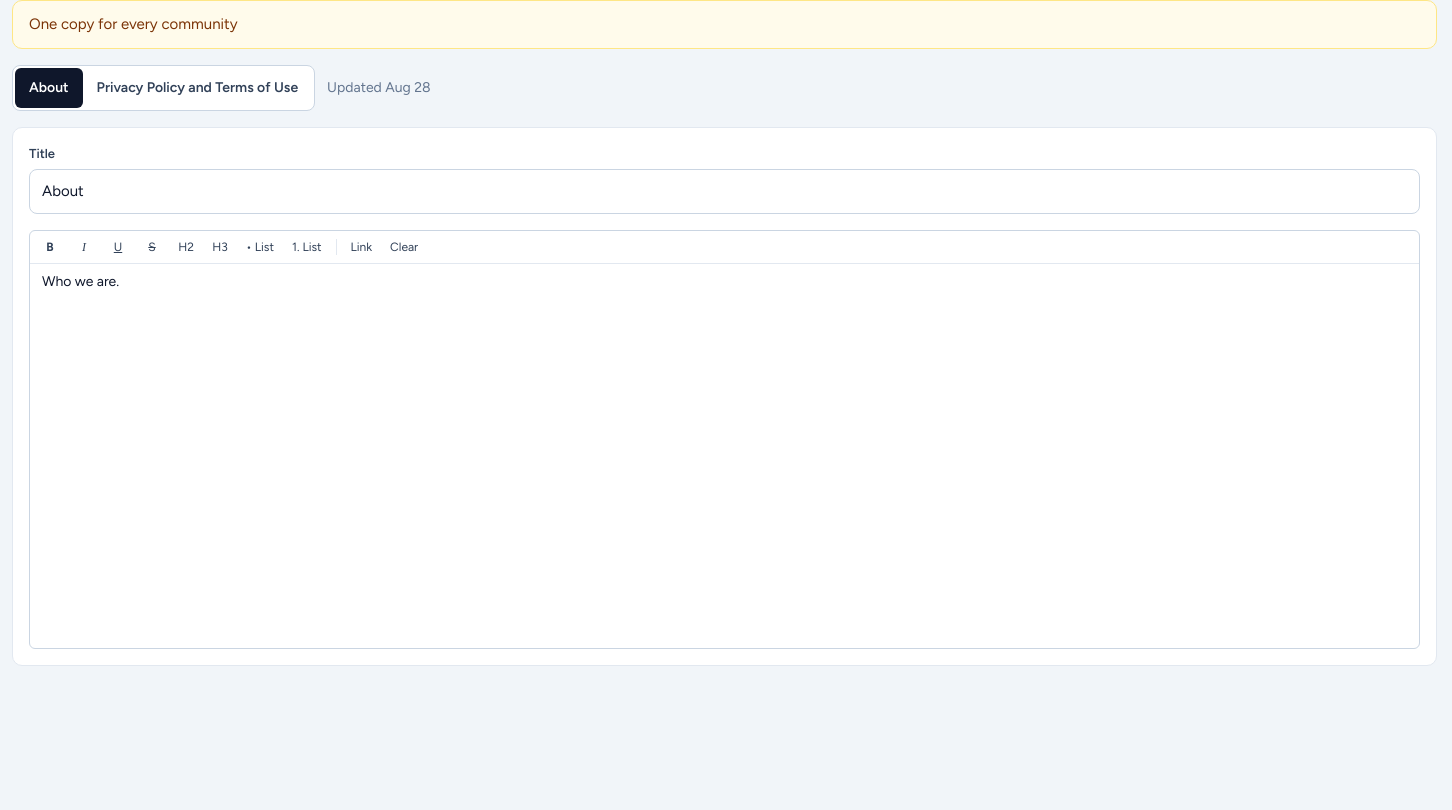
Test: About and Privacy › saves through one bar: a count, Undo, Save, then Saved.
This screenshot has width=1452, height=810.
Check: the element "Save" is not shown
Type " us" into the field labelled "Title" at (724, 191), box [29,169,1420,214]
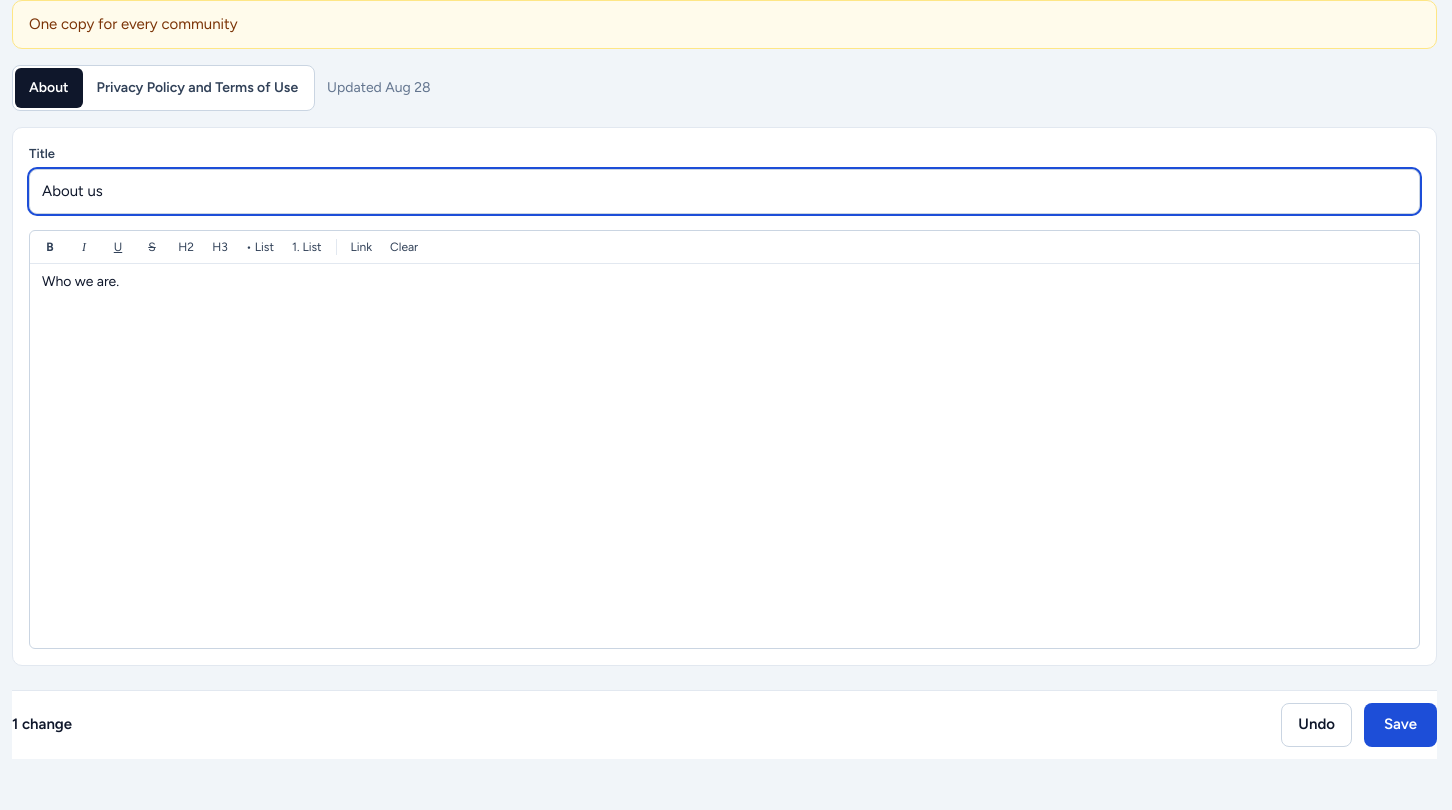
Check: the message reads "1 change", box [12,715,72,733]
Click the button "Undo" at (1317, 724), box [1281,702,1352,746]
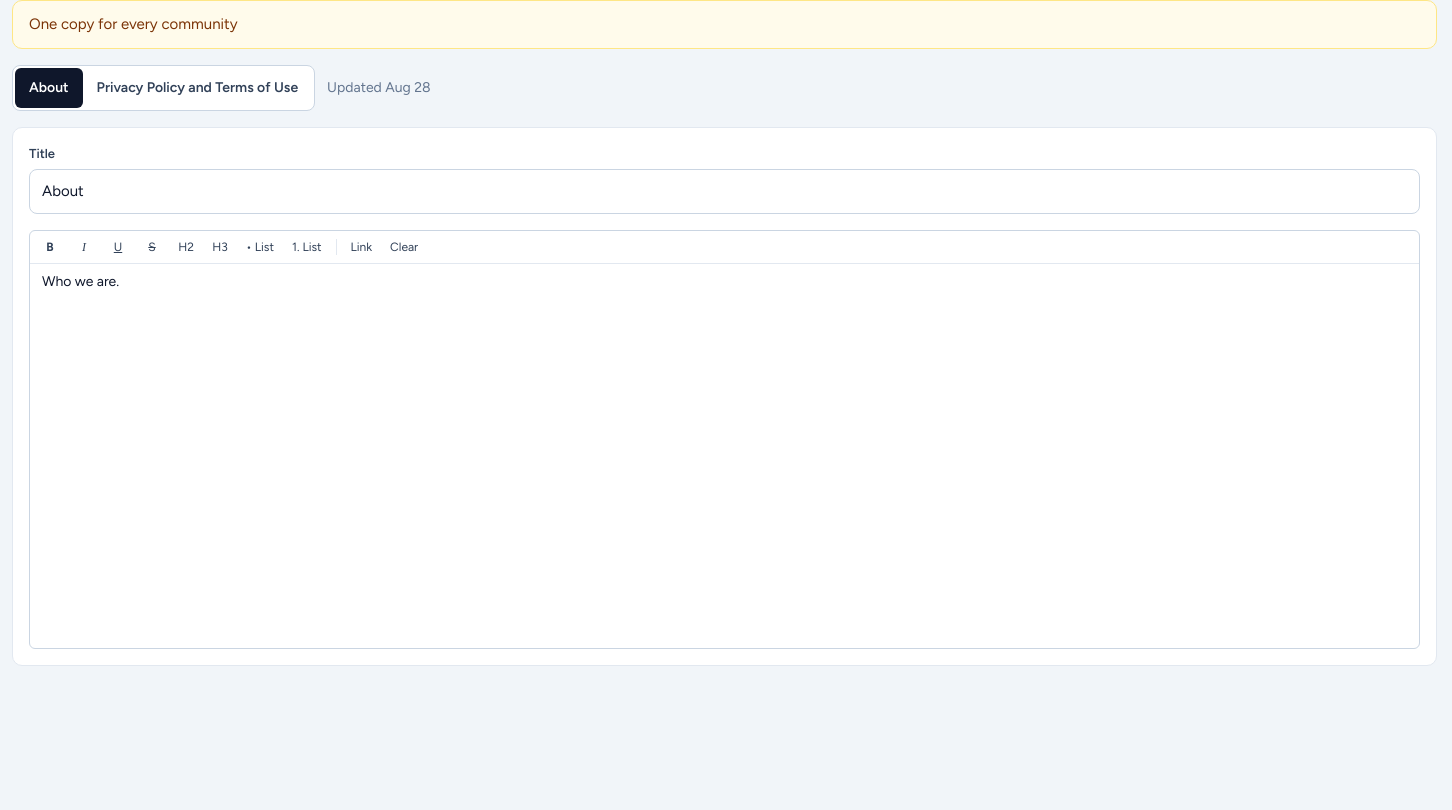
Check: the field labelled "Title" holds "About"
Check: the button "Save" is gone
Type " us" into the field labelled "Title" at (724, 191), box [29,169,1420,214]
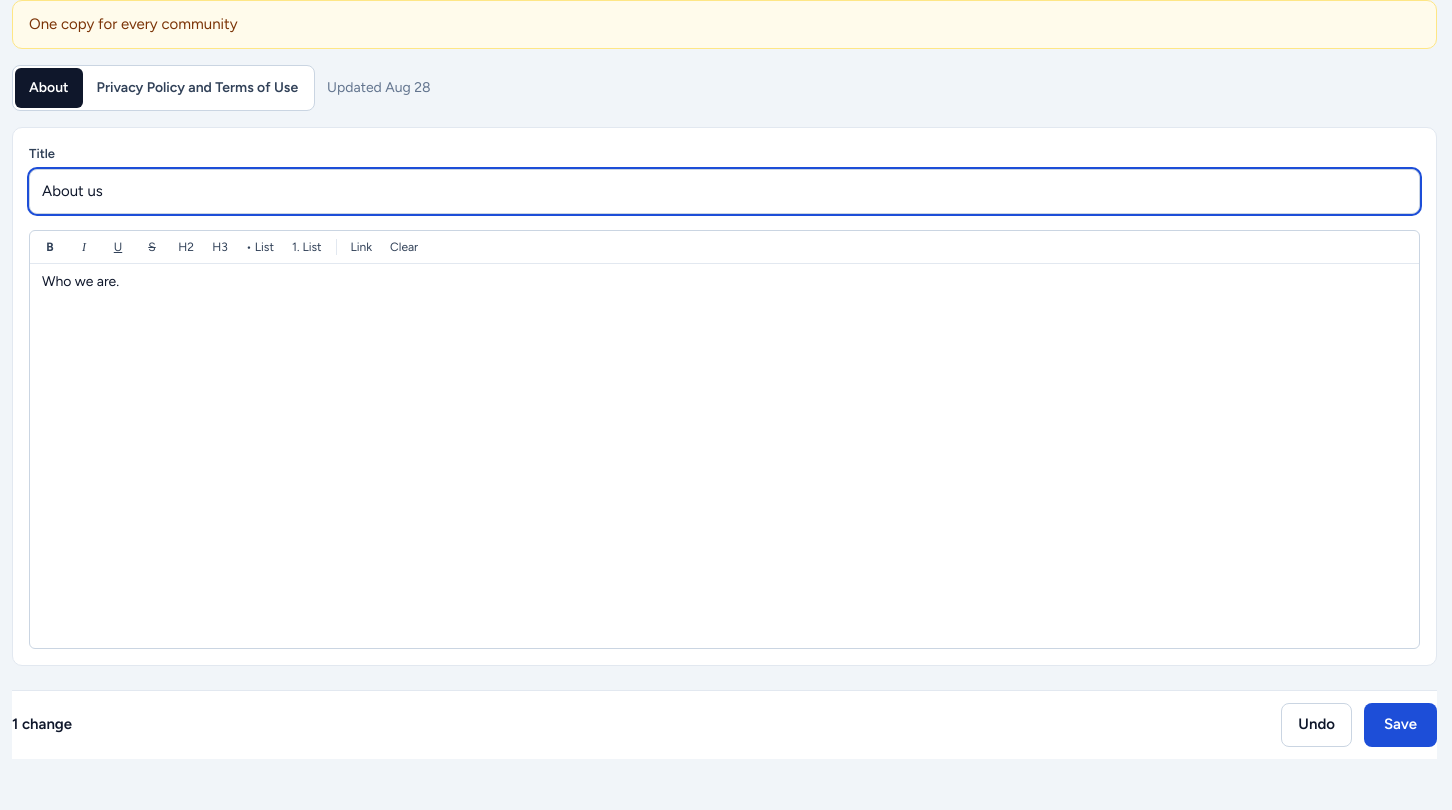
Click the button "Save" at (1400, 724), box [1364,702,1437,746]
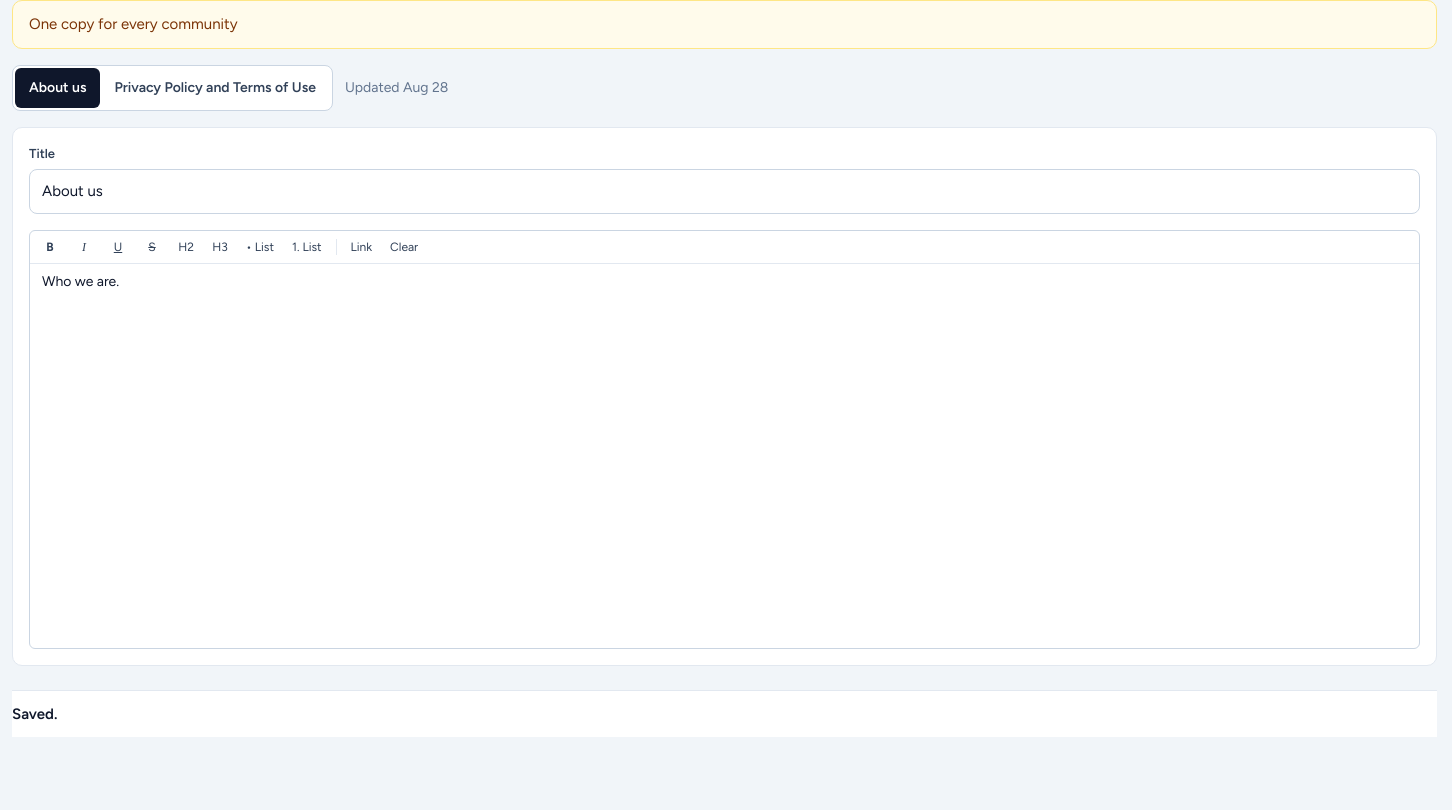
Check: the message reads "Saved.", box [12,704,57,722]
